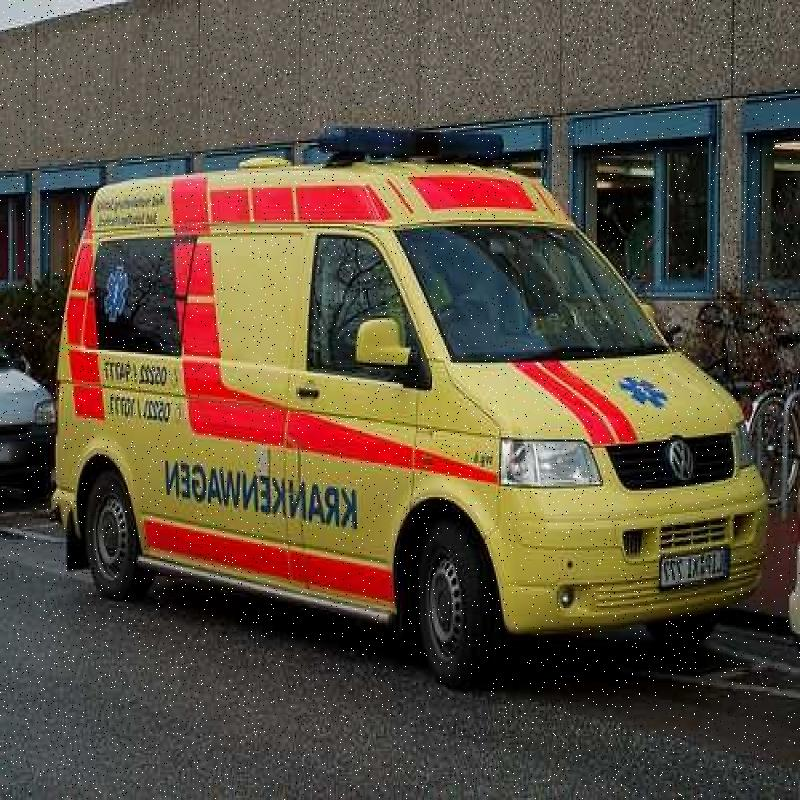AmbulanceSiren: (303, 114, 525, 184)
